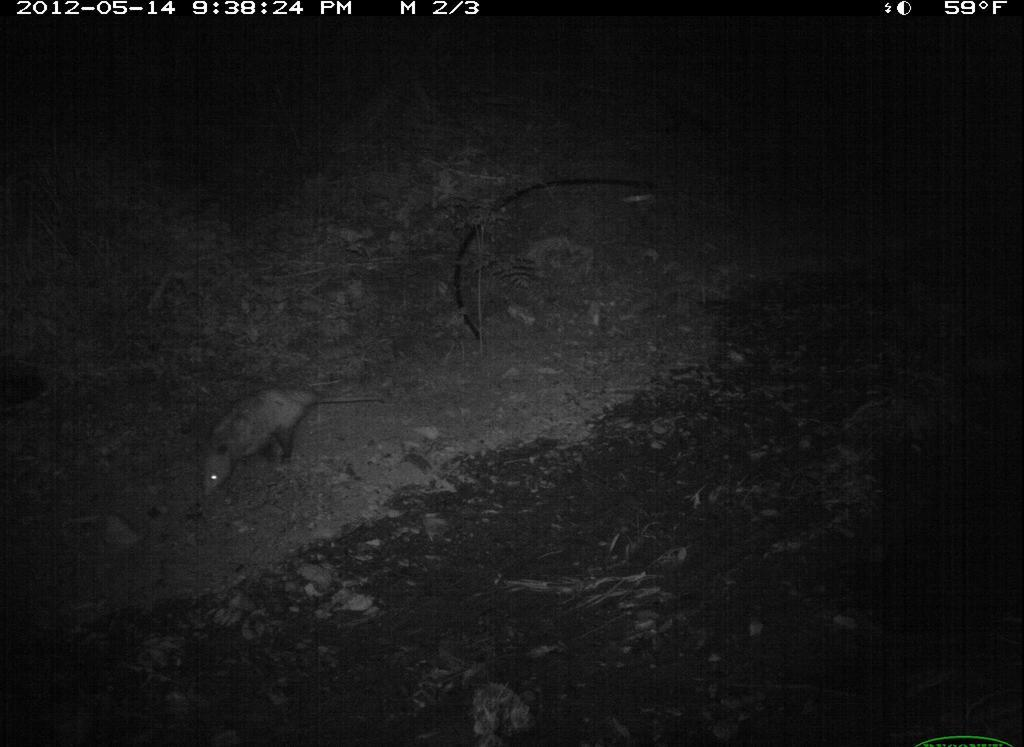opossum: (178, 364, 400, 520)
